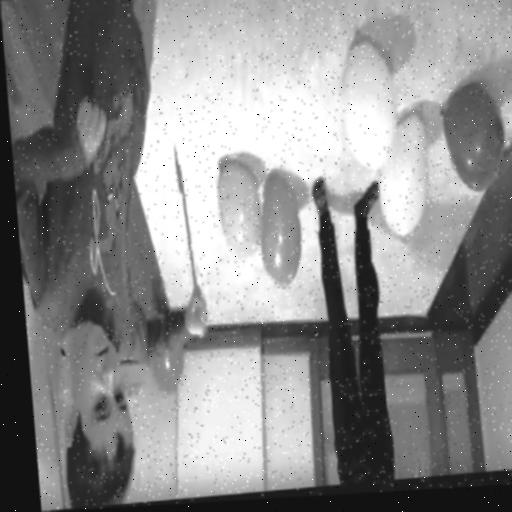balloon: (436, 82, 512, 203), (337, 34, 401, 173), (373, 111, 438, 237), (253, 170, 309, 288), (213, 153, 269, 260), (145, 309, 193, 392)
